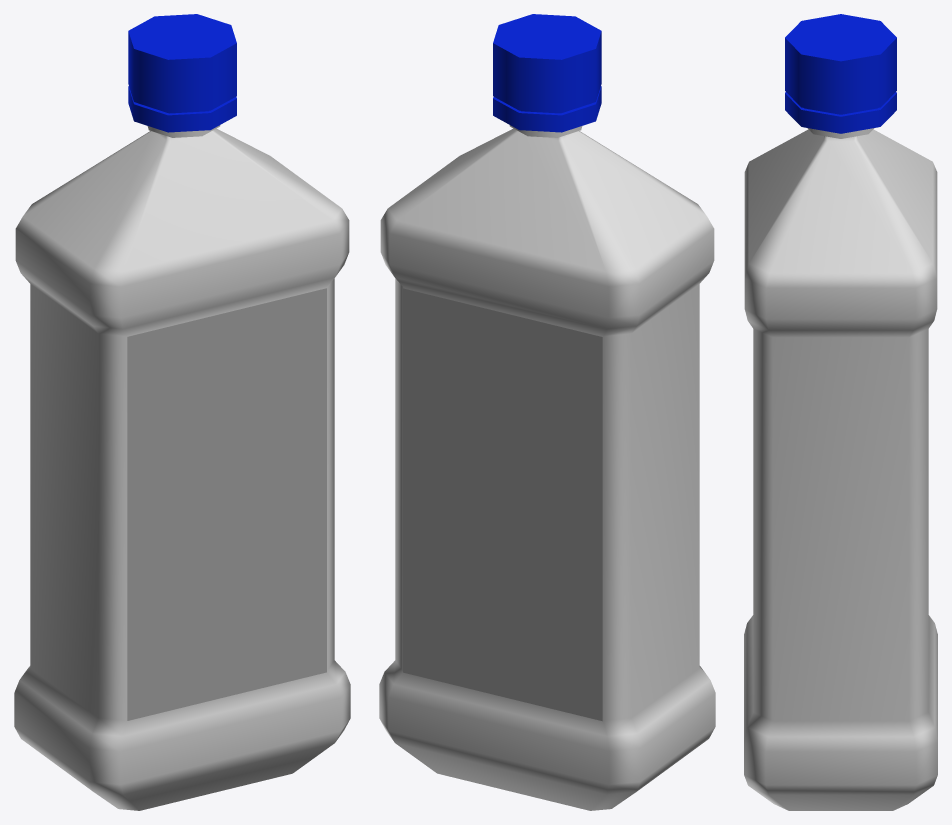
File: Fiji.fbx
3 renders of one model, left to right at view 1: azimuth 30°, elevation 25°; view 2: azimuth 150°, elevation 25°; view 3: azimuth 270°, elevation 25°, orthographic.
Visible parts, largest first — view 1: Fiji_Bottle; view 2: Fiji_Bottle; view 3: Fiji_Bottle.
Boxes of the visible parts, x1,y1,x2,y2 form: Fiji_Bottle: (14,14,350,810); Fiji_Bottle: (379,14,715,810); Fiji_Bottle: (744,14,937,810).
Size of the model in its own units: 29.25 by 78.62 by 18.85.
